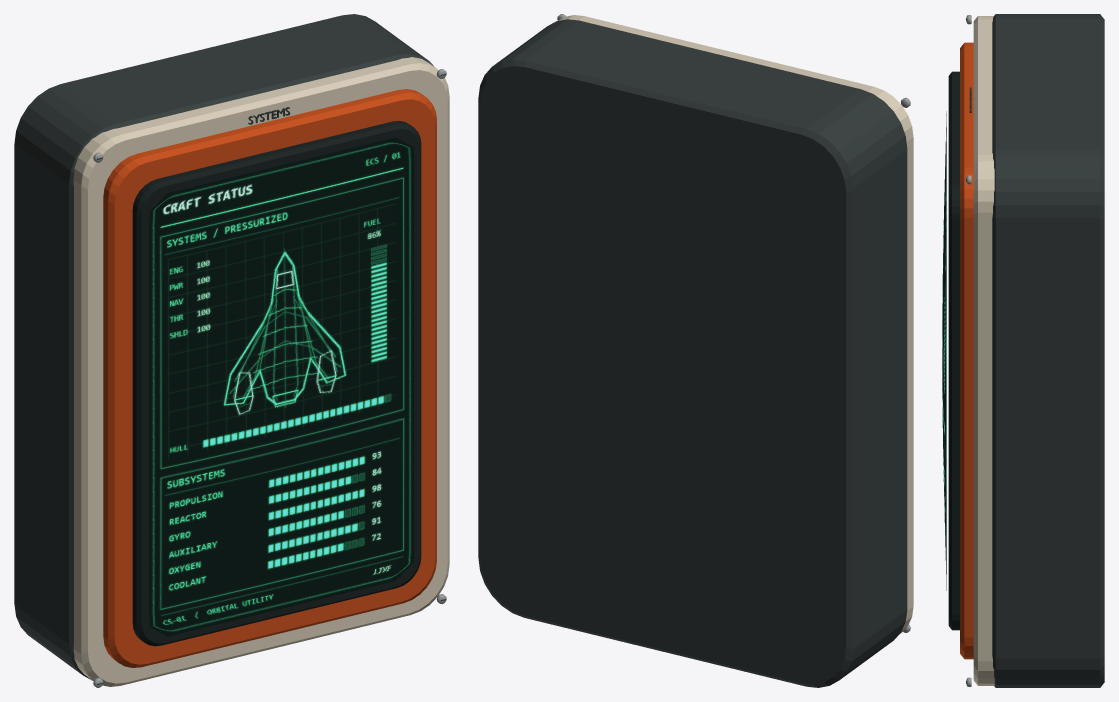
File: Screen_SYSTEMS.glb
3 views of the same model, side by side, from view 1: azimuth 30°, elevation 25°; view 2: azimuth 150°, elevation 25°; view 3: azimuth 270°, elevation 25° (orthographic). The views are drawn at different scales.
Visible parts, largest first — view 1: SCREEN_SYSTEMS.004, SYSTEMS_Body.004, SYSTEMS_Enamel.004, SYSTEMS_SafetyOrange.004, SYSTEMS_RubberSeal.004; view 2: SYSTEMS_Body.004, SYSTEMS_Enamel.004; view 3: SYSTEMS_Body.004, SYSTEMS_Enamel.004, SYSTEMS_SafetyOrange.004, SYSTEMS_RubberSeal.004, SCREEN_SYSTEMS.004.
Part boxes in pixels (left/top/right/bottom): SCREEN_SYSTEMS.004: left=149, top=137, right=414, bottom=636; SYSTEMS_Body.004: left=14, top=14, right=433, bottom=680; SYSTEMS_Enamel.004: left=73, top=57, right=449, bottom=686; SYSTEMS_SafetyOrange.004: left=103, top=89, right=436, bottom=667; SYSTEMS_RubberSeal.004: left=132, top=121, right=421, bottom=646; SYSTEMS_Body.004: left=478, top=19, right=907, bottom=687; SYSTEMS_Enamel.004: left=558, top=15, right=913, bottom=633; SYSTEMS_Body.004: left=992, top=14, right=1104, bottom=687; SYSTEMS_Enamel.004: left=973, top=16, right=994, bottom=685; SYSTEMS_SafetyOrange.004: left=960, top=42, right=973, bottom=659; SYSTEMS_RubberSeal.004: left=948, top=71, right=959, bottom=630; SCREEN_SYSTEMS.004: left=942, top=111, right=946, bottom=590.
Size of the model in its own units: 0.364 by 0.518 by 0.143.
7 materials, 1 textured.
